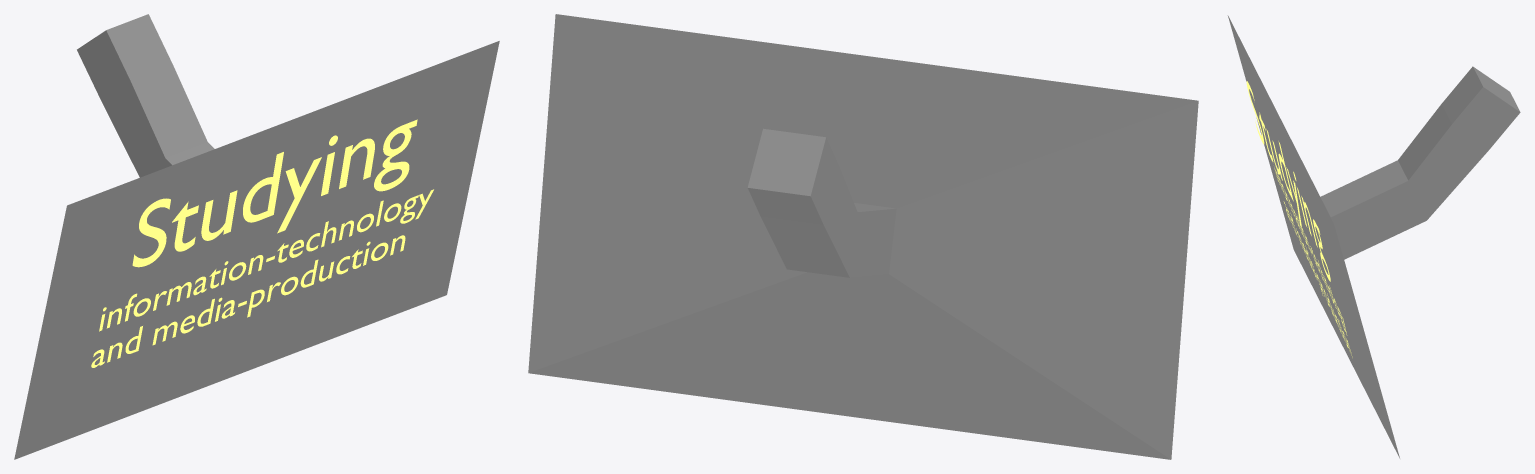
File: Screen 1.glb
3 renders of one model, left to right at view 1: azimuth 30°, elevation 25°; view 2: azimuth 150°, elevation 25°; view 3: azimuth 270°, elevation 25°, orthographic. The views are drawn at different scales.
Visible parts, largest first — view 1: Cube.011, Text.011, Text.012; view 2: Cube.011; view 3: Cube.011, Text.011, Text.012.
Part boxes in pixels (x1,y1,x2,y2): Cube.011: [14, 14, 499, 459]; Text.011: [132, 119, 417, 267]; Text.012: [91, 189, 433, 367]; Cube.011: [528, 14, 1198, 459]; Cube.011: [1227, 15, 1520, 458]; Text.011: [1246, 81, 1330, 281]; Text.012: [1274, 167, 1352, 357].
Size of the model in its own units: 16.83 by 9.71 by 9.67.
